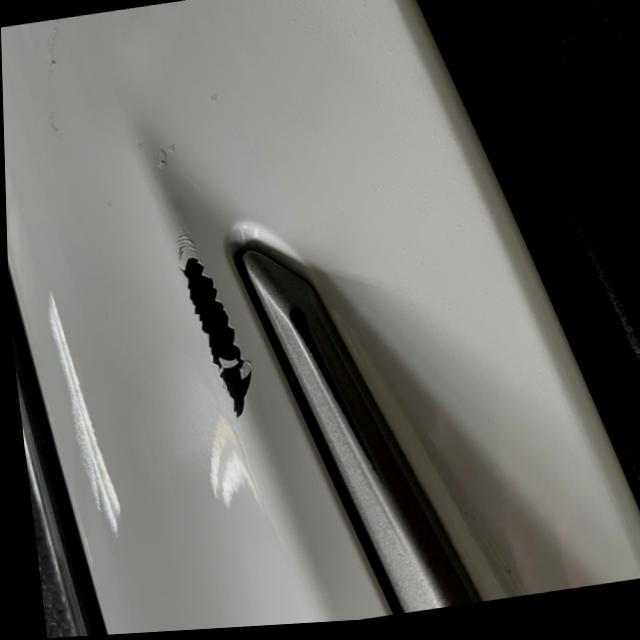Paint-fading: (177, 239, 258, 420)
